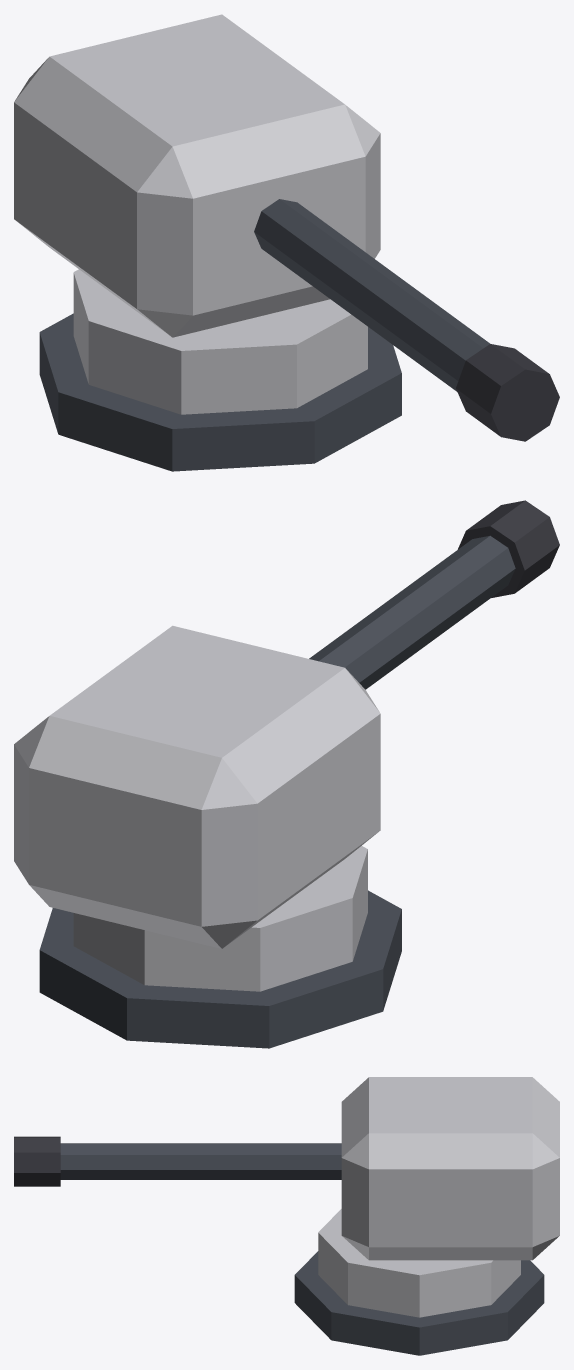
The model's file is NavalCannon.fbx.
The picture shows the model from 3 angles, top to bottom: view 1: azimuth 30°, elevation 25°; view 2: azimuth 150°, elevation 25°; view 3: azimuth 270°, elevation 25°; orthographic projection. The views are drawn at different scales.
Parts seen in each view (by area): view 1: NavalCannon_Turret, NavalCannon; view 2: NavalCannon_Turret, NavalCannon; view 3: NavalCannon_Turret, NavalCannon.
Part boxes in pixels (bbox=[...]): NavalCannon_Turret: bbox=[14, 14, 559, 441]; NavalCannon: bbox=[39, 313, 401, 471]; NavalCannon_Turret: bbox=[14, 500, 559, 991]; NavalCannon: bbox=[39, 890, 401, 1048]; NavalCannon_Turret: bbox=[14, 1077, 559, 1317]; NavalCannon: bbox=[294, 1251, 544, 1355].
Bounding box in the file's own units: 3.2 × 2.8 × 7.
Materials: 1 (1 with a texture image).
